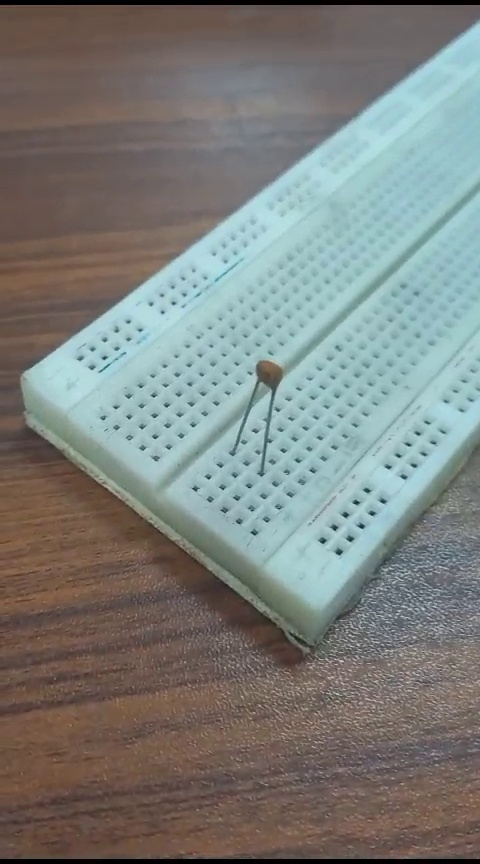ceramic capacitor: (234, 352, 294, 467)
